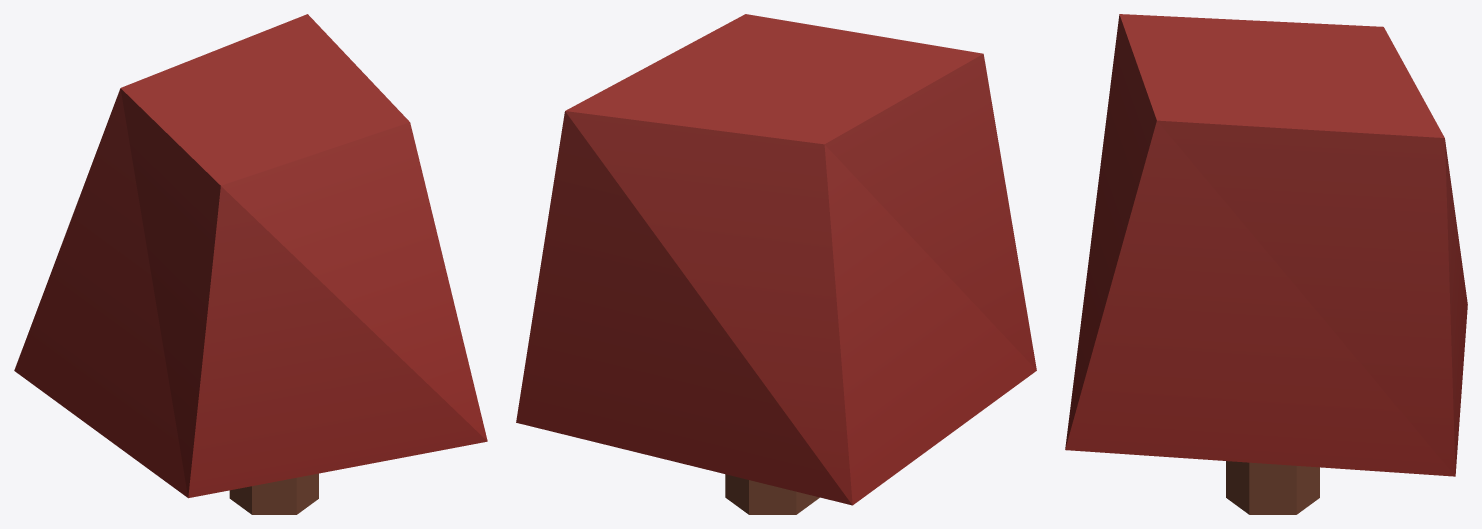
File: Bush_11_gradient_red_vc.fbx
The picture shows the model from 3 angles, left to right: view 1: azimuth 30°, elevation 25°; view 2: azimuth 150°, elevation 25°; view 3: azimuth 270°, elevation 25°; orthographic projection. The views are drawn at different scales.
Visible parts, largest first — view 1: Bush_11_gradient_red_vc; view 2: Bush_11_gradient_red_vc; view 3: Bush_11_gradient_red_vc.
Boxes of the visible parts, <box> form: Bush_11_gradient_red_vc: <box>14,14,487,514</box>; Bush_11_gradient_red_vc: <box>516,14,1036,514</box>; Bush_11_gradient_red_vc: <box>1065,14,1467,514</box>.
Size of the model in its own units: 50.88 by 59.59 by 51.95.
